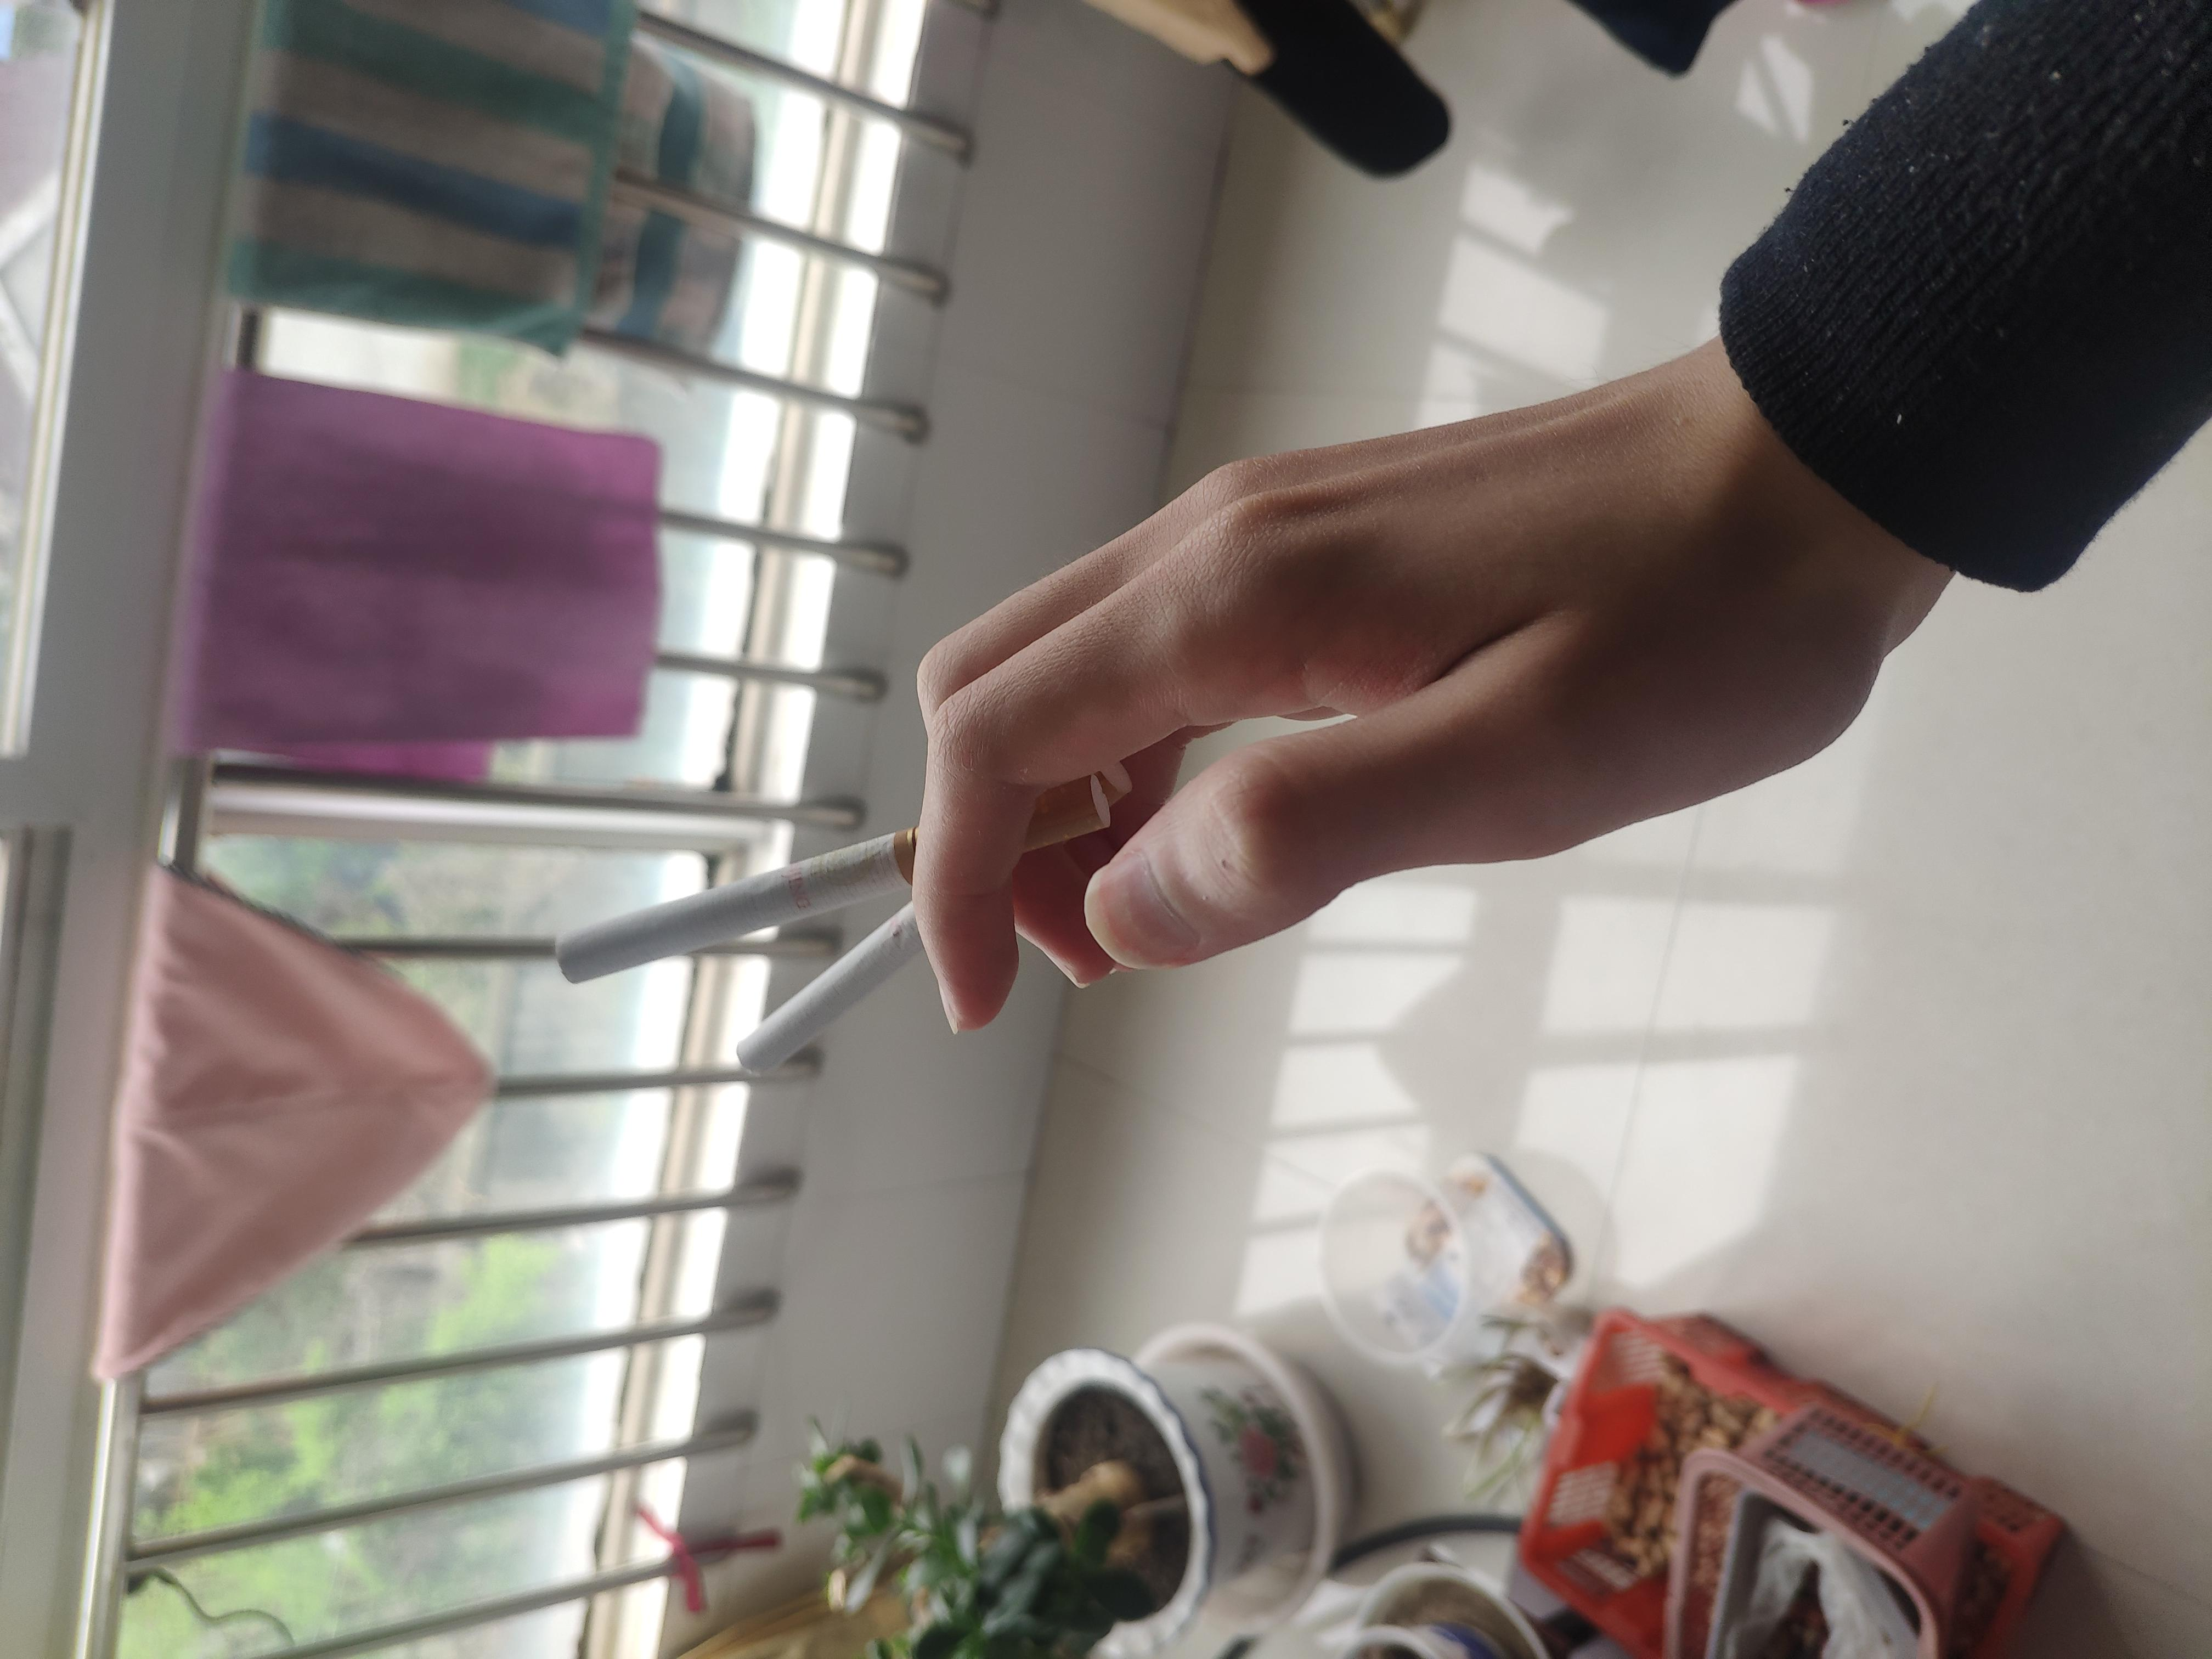smoke: (777, 549, 1211, 854), (894, 415, 1186, 840)
